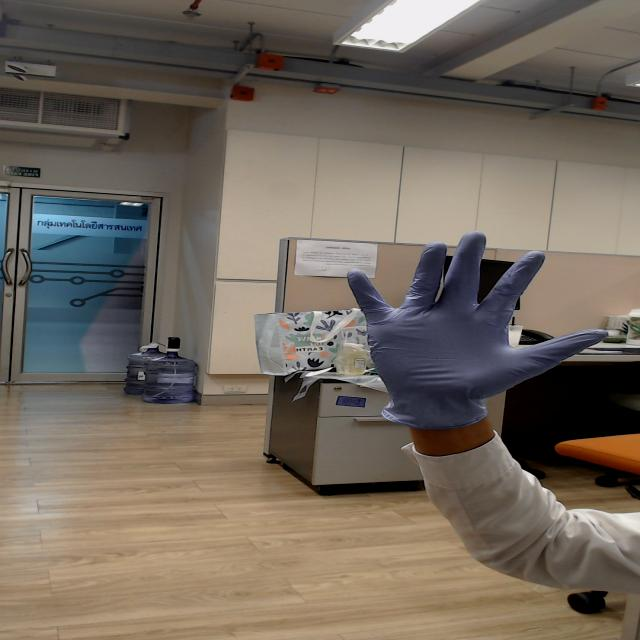glove: (314, 223, 624, 417)
